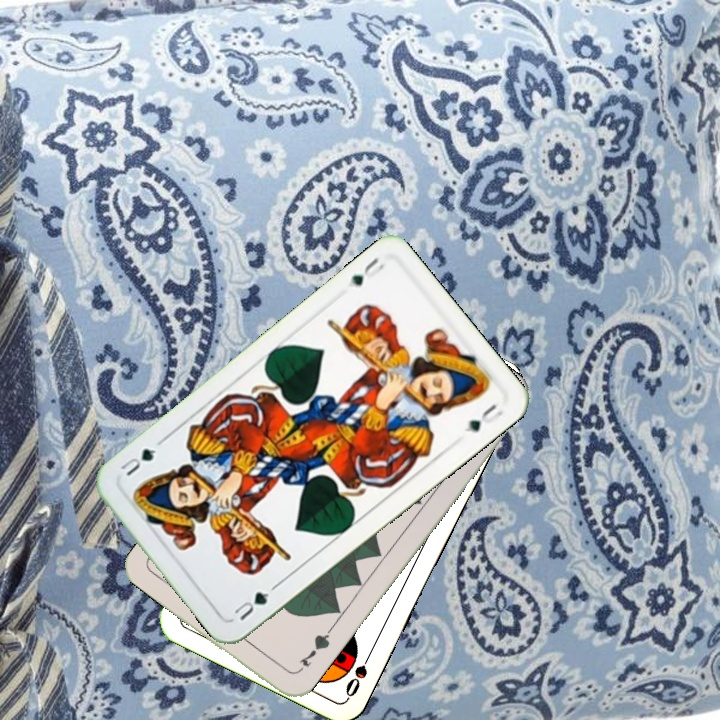G7: (291, 626, 333, 676)
GU: (230, 581, 279, 624), (347, 253, 387, 289)
SO: (341, 645, 376, 700)
